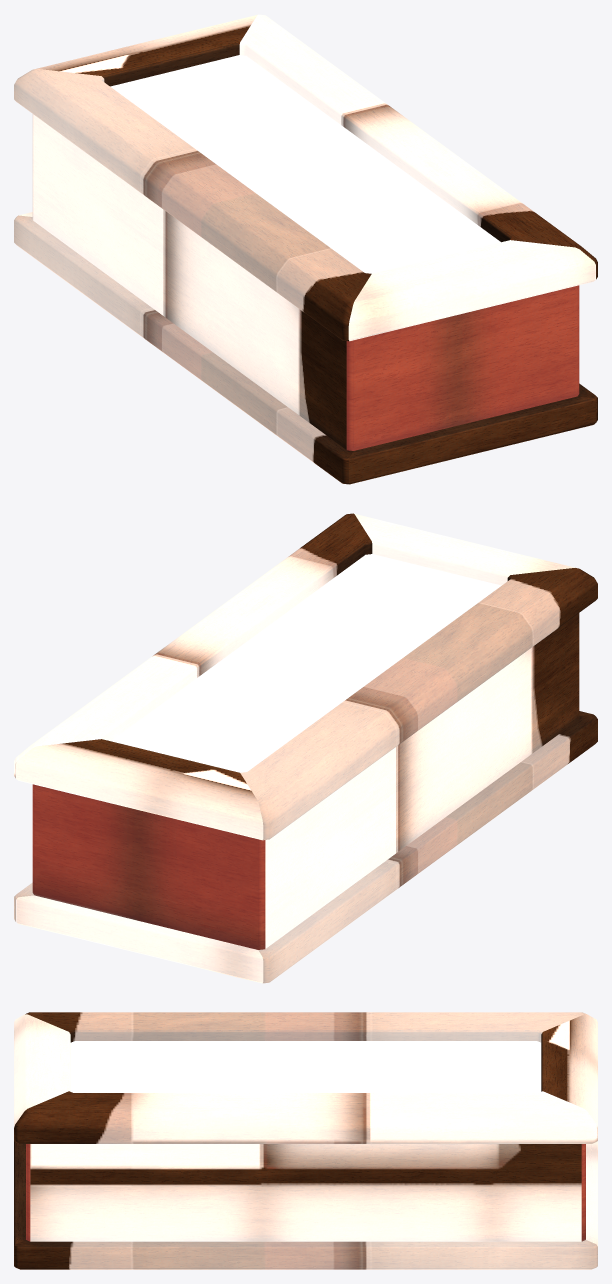
Rendered from SM_Chopstick_Box.fbx.
3 renders of one model, top to bottom at view 1: azimuth 30°, elevation 25°; view 2: azimuth 150°, elevation 25°; view 3: azimuth 270°, elevation 25°, orthographic. The views are drawn at different scales.
Visible parts, largest first — view 1: SM_Chopstick_Box_LOD0; view 2: SM_Chopstick_Box_LOD0; view 3: SM_Chopstick_Box_LOD0.
Part boxes in pixels (x1=…): SM_Chopstick_Box_LOD0: x1=14, y1=14, x2=597, y2=484; SM_Chopstick_Box_LOD0: x1=14, y1=513, x2=597, y2=983; SM_Chopstick_Box_LOD0: x1=14, y1=1012, x2=597, y2=1269.
Bounding box in the file's own units: 11.57 × 26.06 × 7.57.
